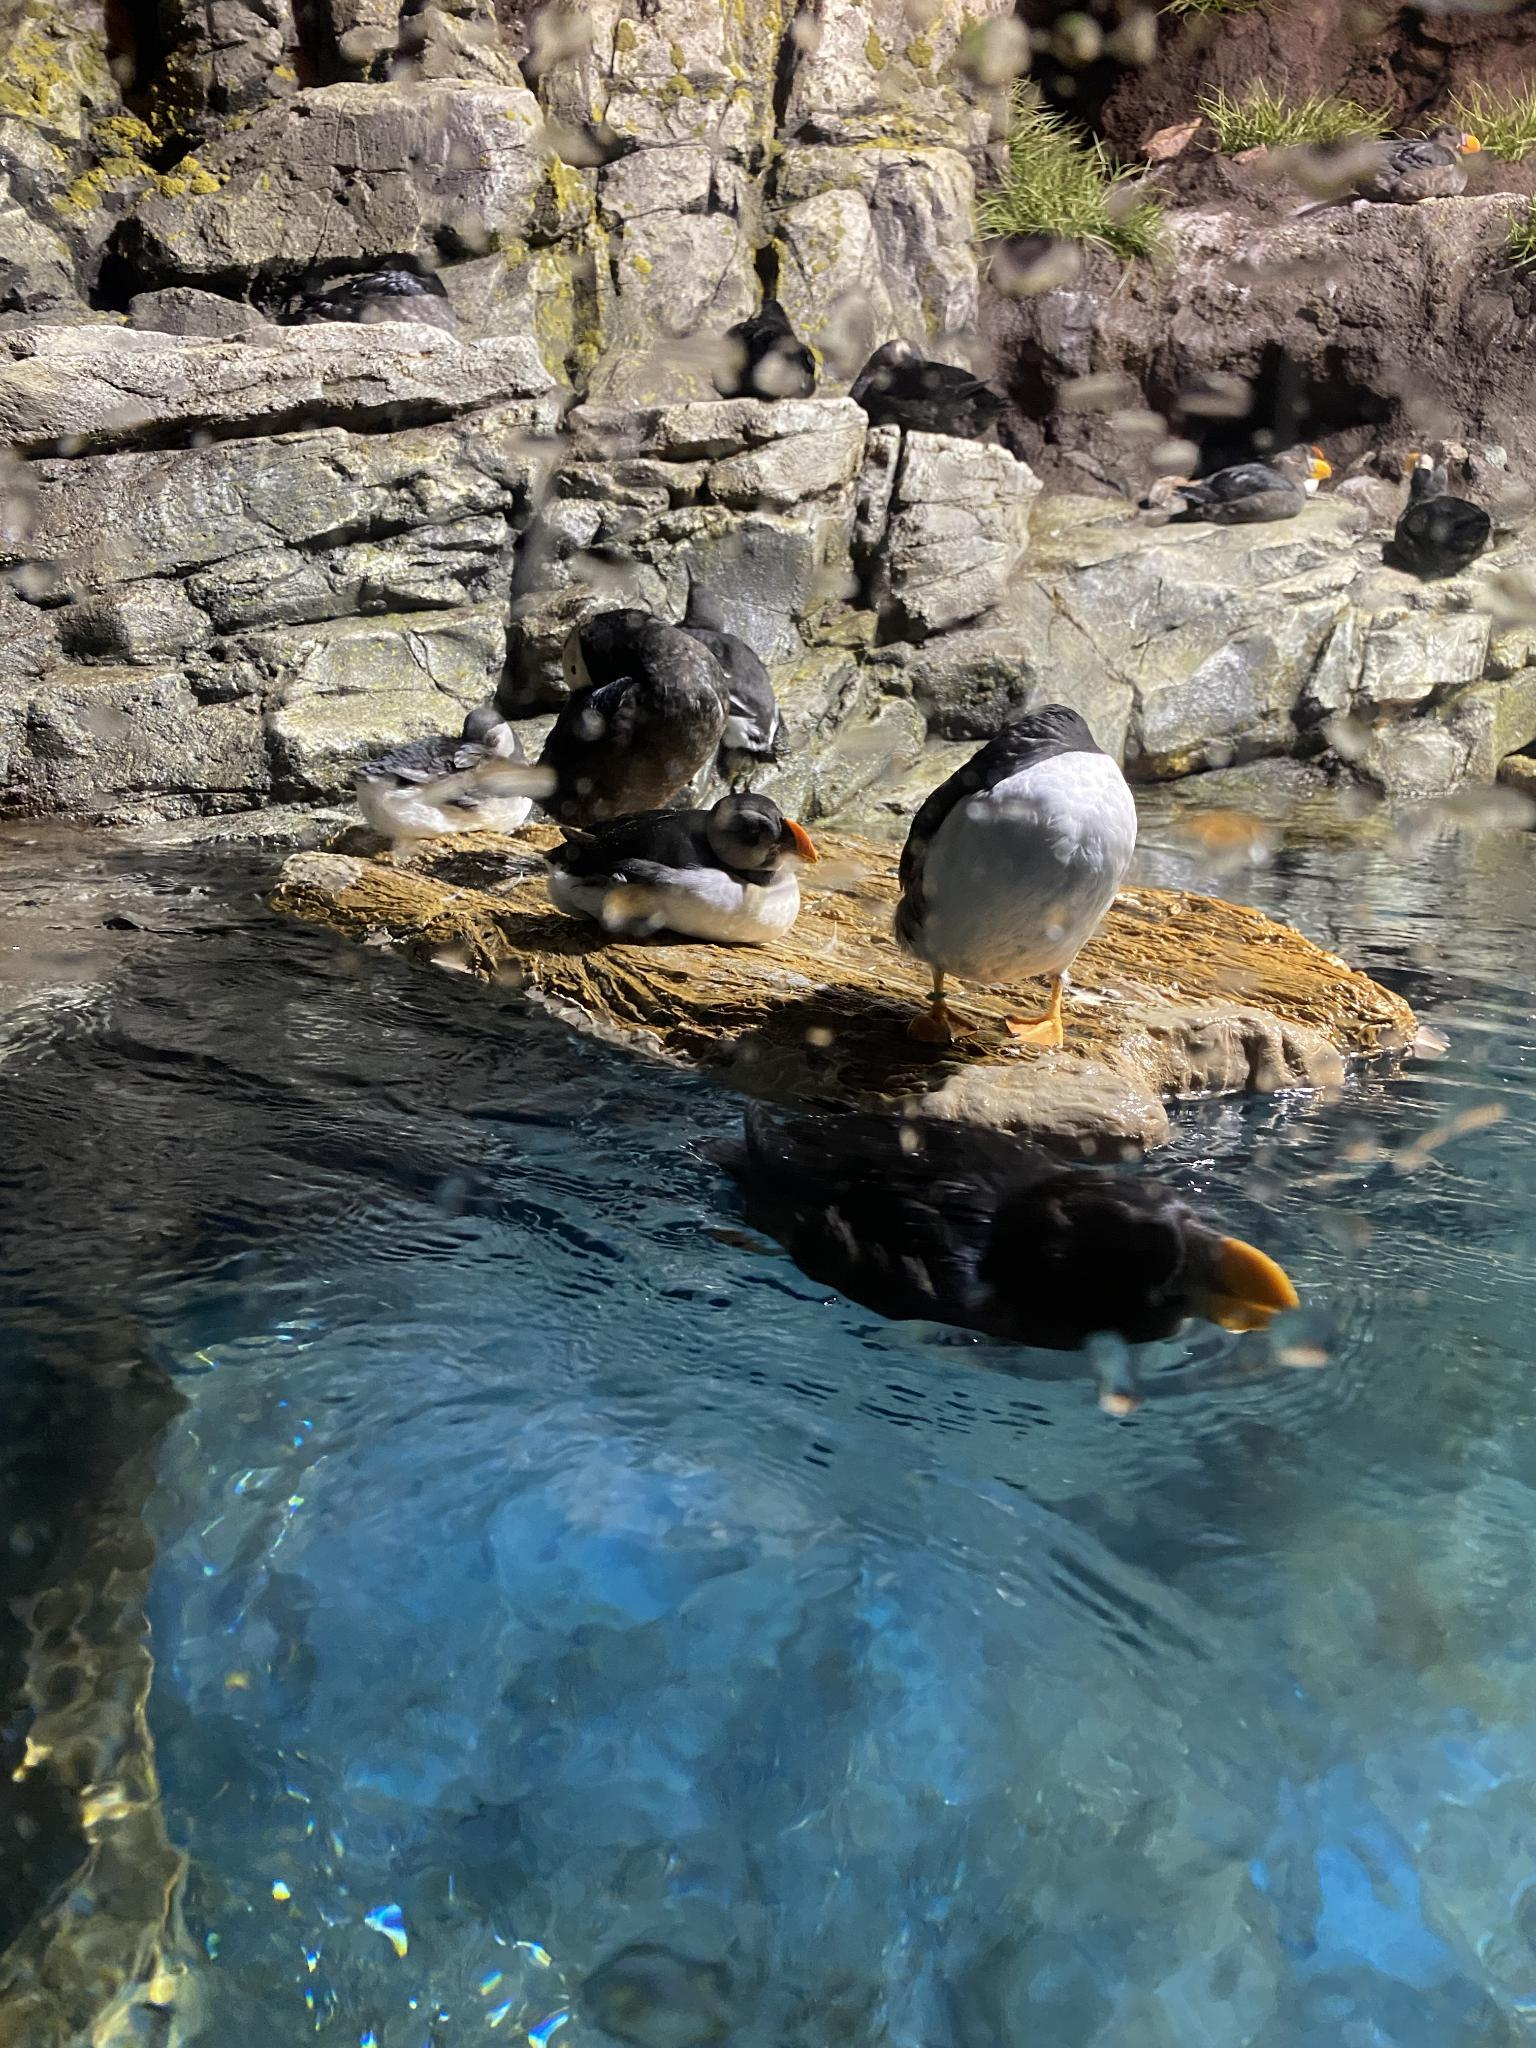puffin: (707, 1106, 1297, 1356), (892, 693, 1137, 1053), (453, 598, 721, 806), (528, 793, 818, 947), (644, 606, 786, 816), (845, 332, 1018, 447), (1383, 432, 1497, 581), (1168, 435, 1329, 522)
